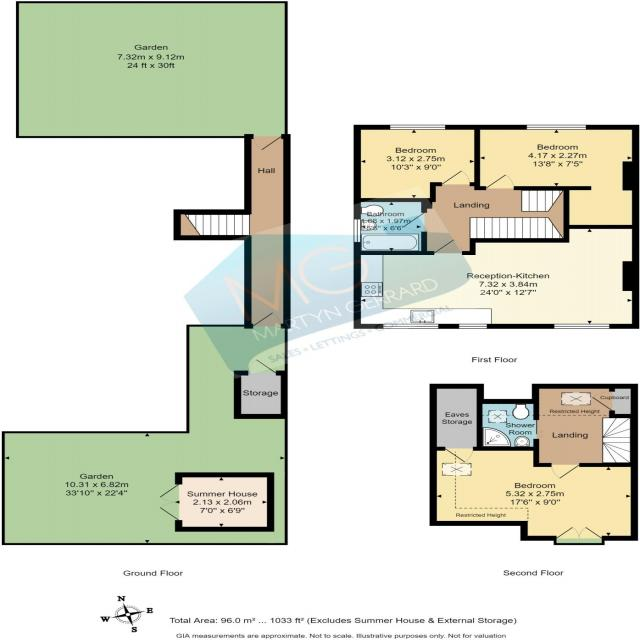DOOR: (550, 463, 581, 480), (444, 446, 475, 463), (433, 238, 463, 255), (485, 174, 516, 190), (441, 170, 471, 186)
ROOM: (353, 225, 640, 329), (429, 447, 638, 545), (474, 124, 639, 229), (354, 125, 480, 202)
WINDOW: (525, 124, 587, 130), (388, 124, 447, 130), (381, 323, 439, 329), (552, 324, 610, 329), (457, 323, 488, 329)
